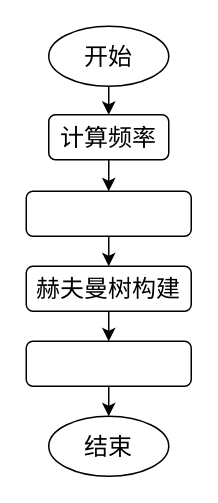
The diagram is 218 pixels wide and 503 high, and some of its shapes have lost their labels. The centre of each missing label's shape, as x and y in pixels:
"优先级队列" goes at point (108, 213).
"绘制赫夫曼树" goes at point (108, 363).
